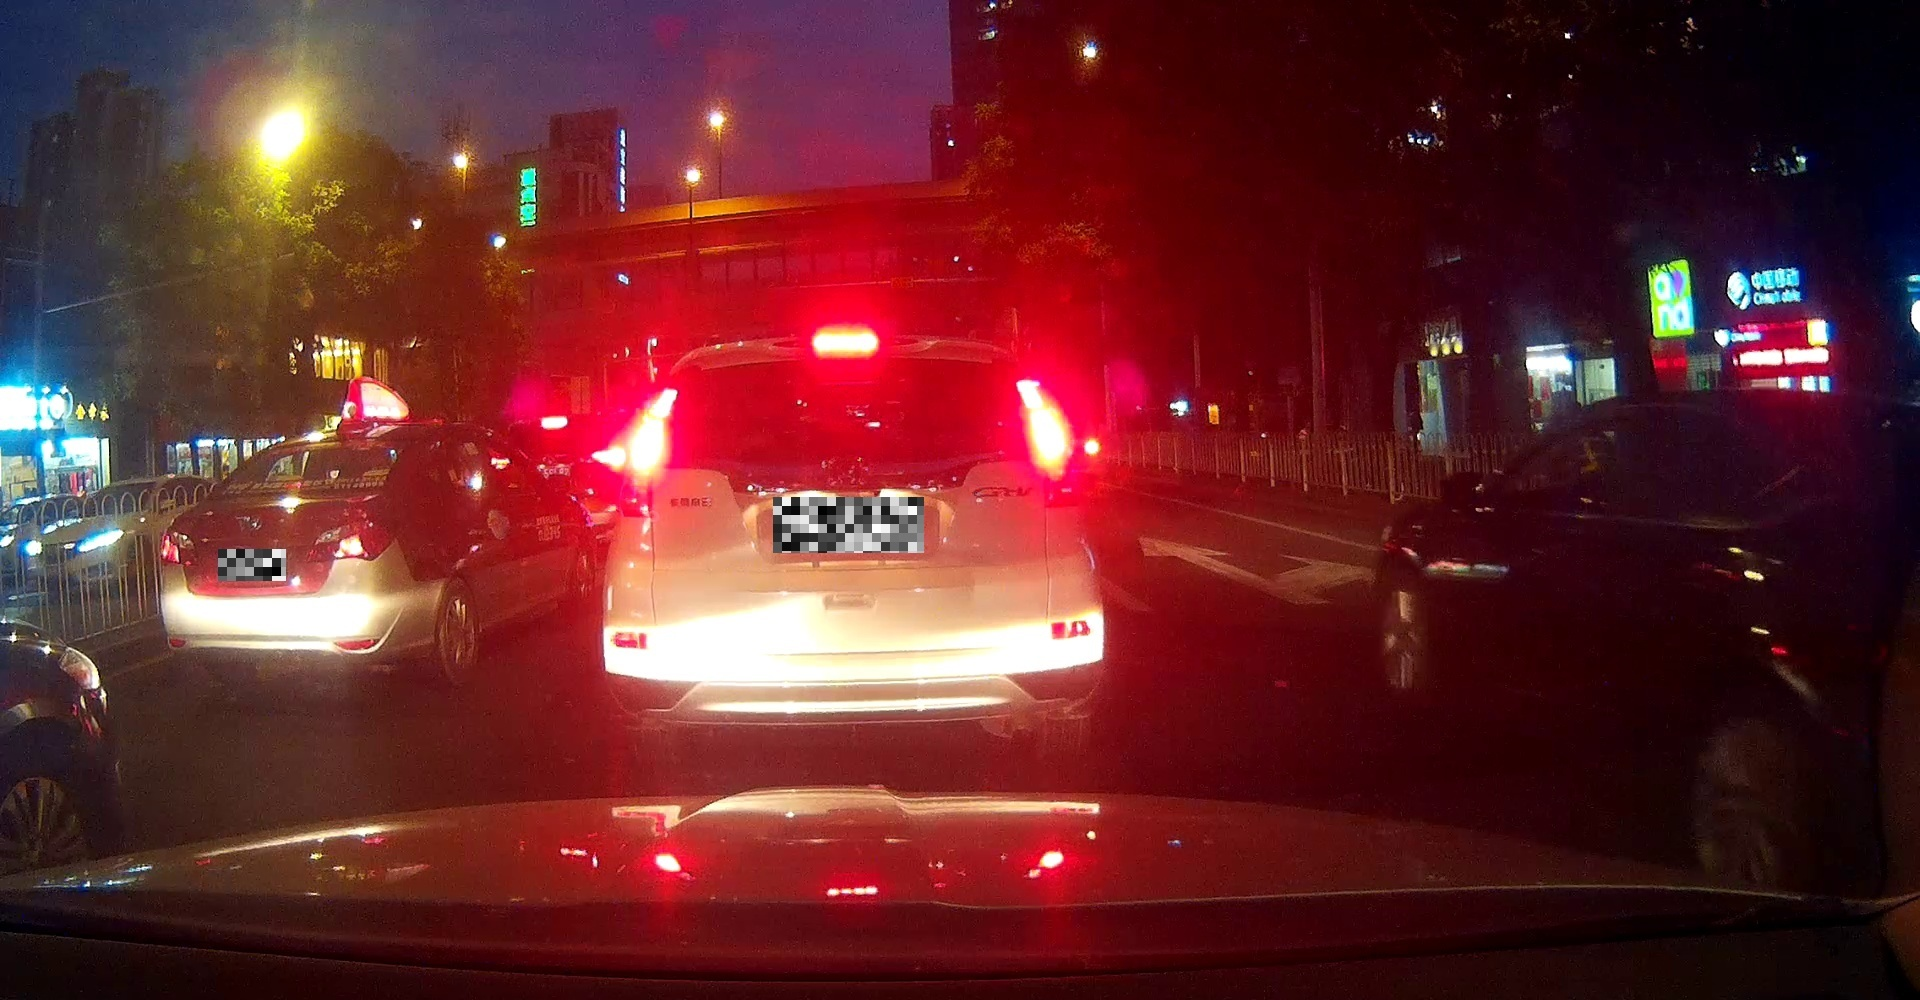L_light: (618, 388, 679, 518), (160, 528, 201, 569)
R_light: (1015, 378, 1083, 504), (307, 518, 396, 561)
T_light: (811, 332, 877, 353), (282, 480, 311, 489)
night-brake: (601, 322, 1103, 764), (159, 420, 406, 688)
plate_1: (218, 549, 286, 581)
plate_2: (773, 497, 924, 553)
